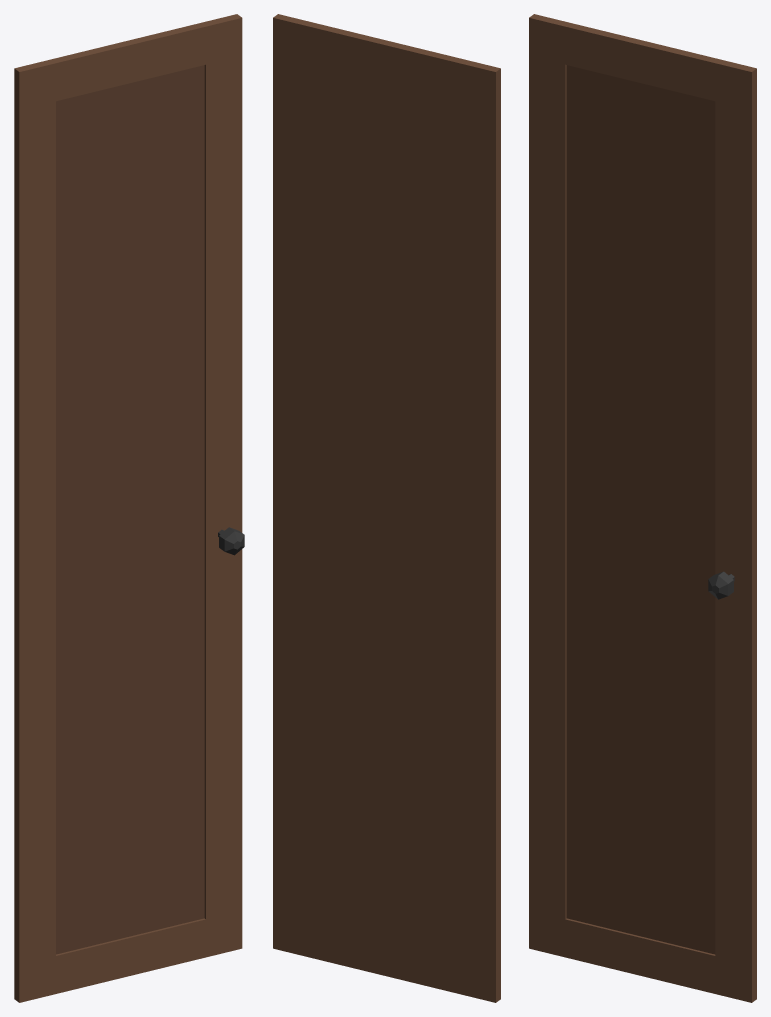
File: Wardrobe7_C3_03.fbx
The picture shows the model from 3 angles, left to right: view 1: azimuth 30°, elevation 25°; view 2: azimuth 150°, elevation 25°; view 3: azimuth 330°, elevation 25°; orthographic projection.
Visible parts, largest first — view 1: Wardrobe7_C3_03; view 2: Wardrobe7_C3_03; view 3: Wardrobe7_C3_03.
Boxes of the visible parts, x1=… form: Wardrobe7_C3_03: x1=14, y1=14, x2=244, y2=1002; Wardrobe7_C3_03: x1=273, y1=14, x2=500, y2=1002; Wardrobe7_C3_03: x1=529, y1=14, x2=756, y2=1002.
Size of the model in its own units: 50 by 200 by 8.1.
